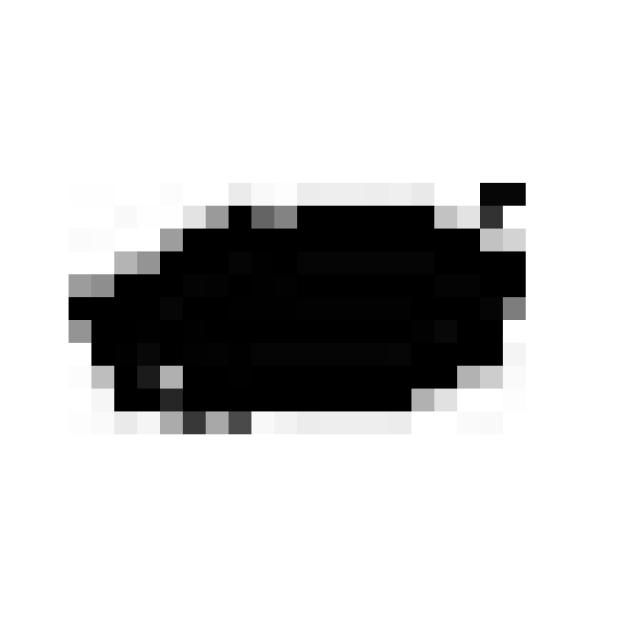0 -zero-: (55, 156, 547, 452)
